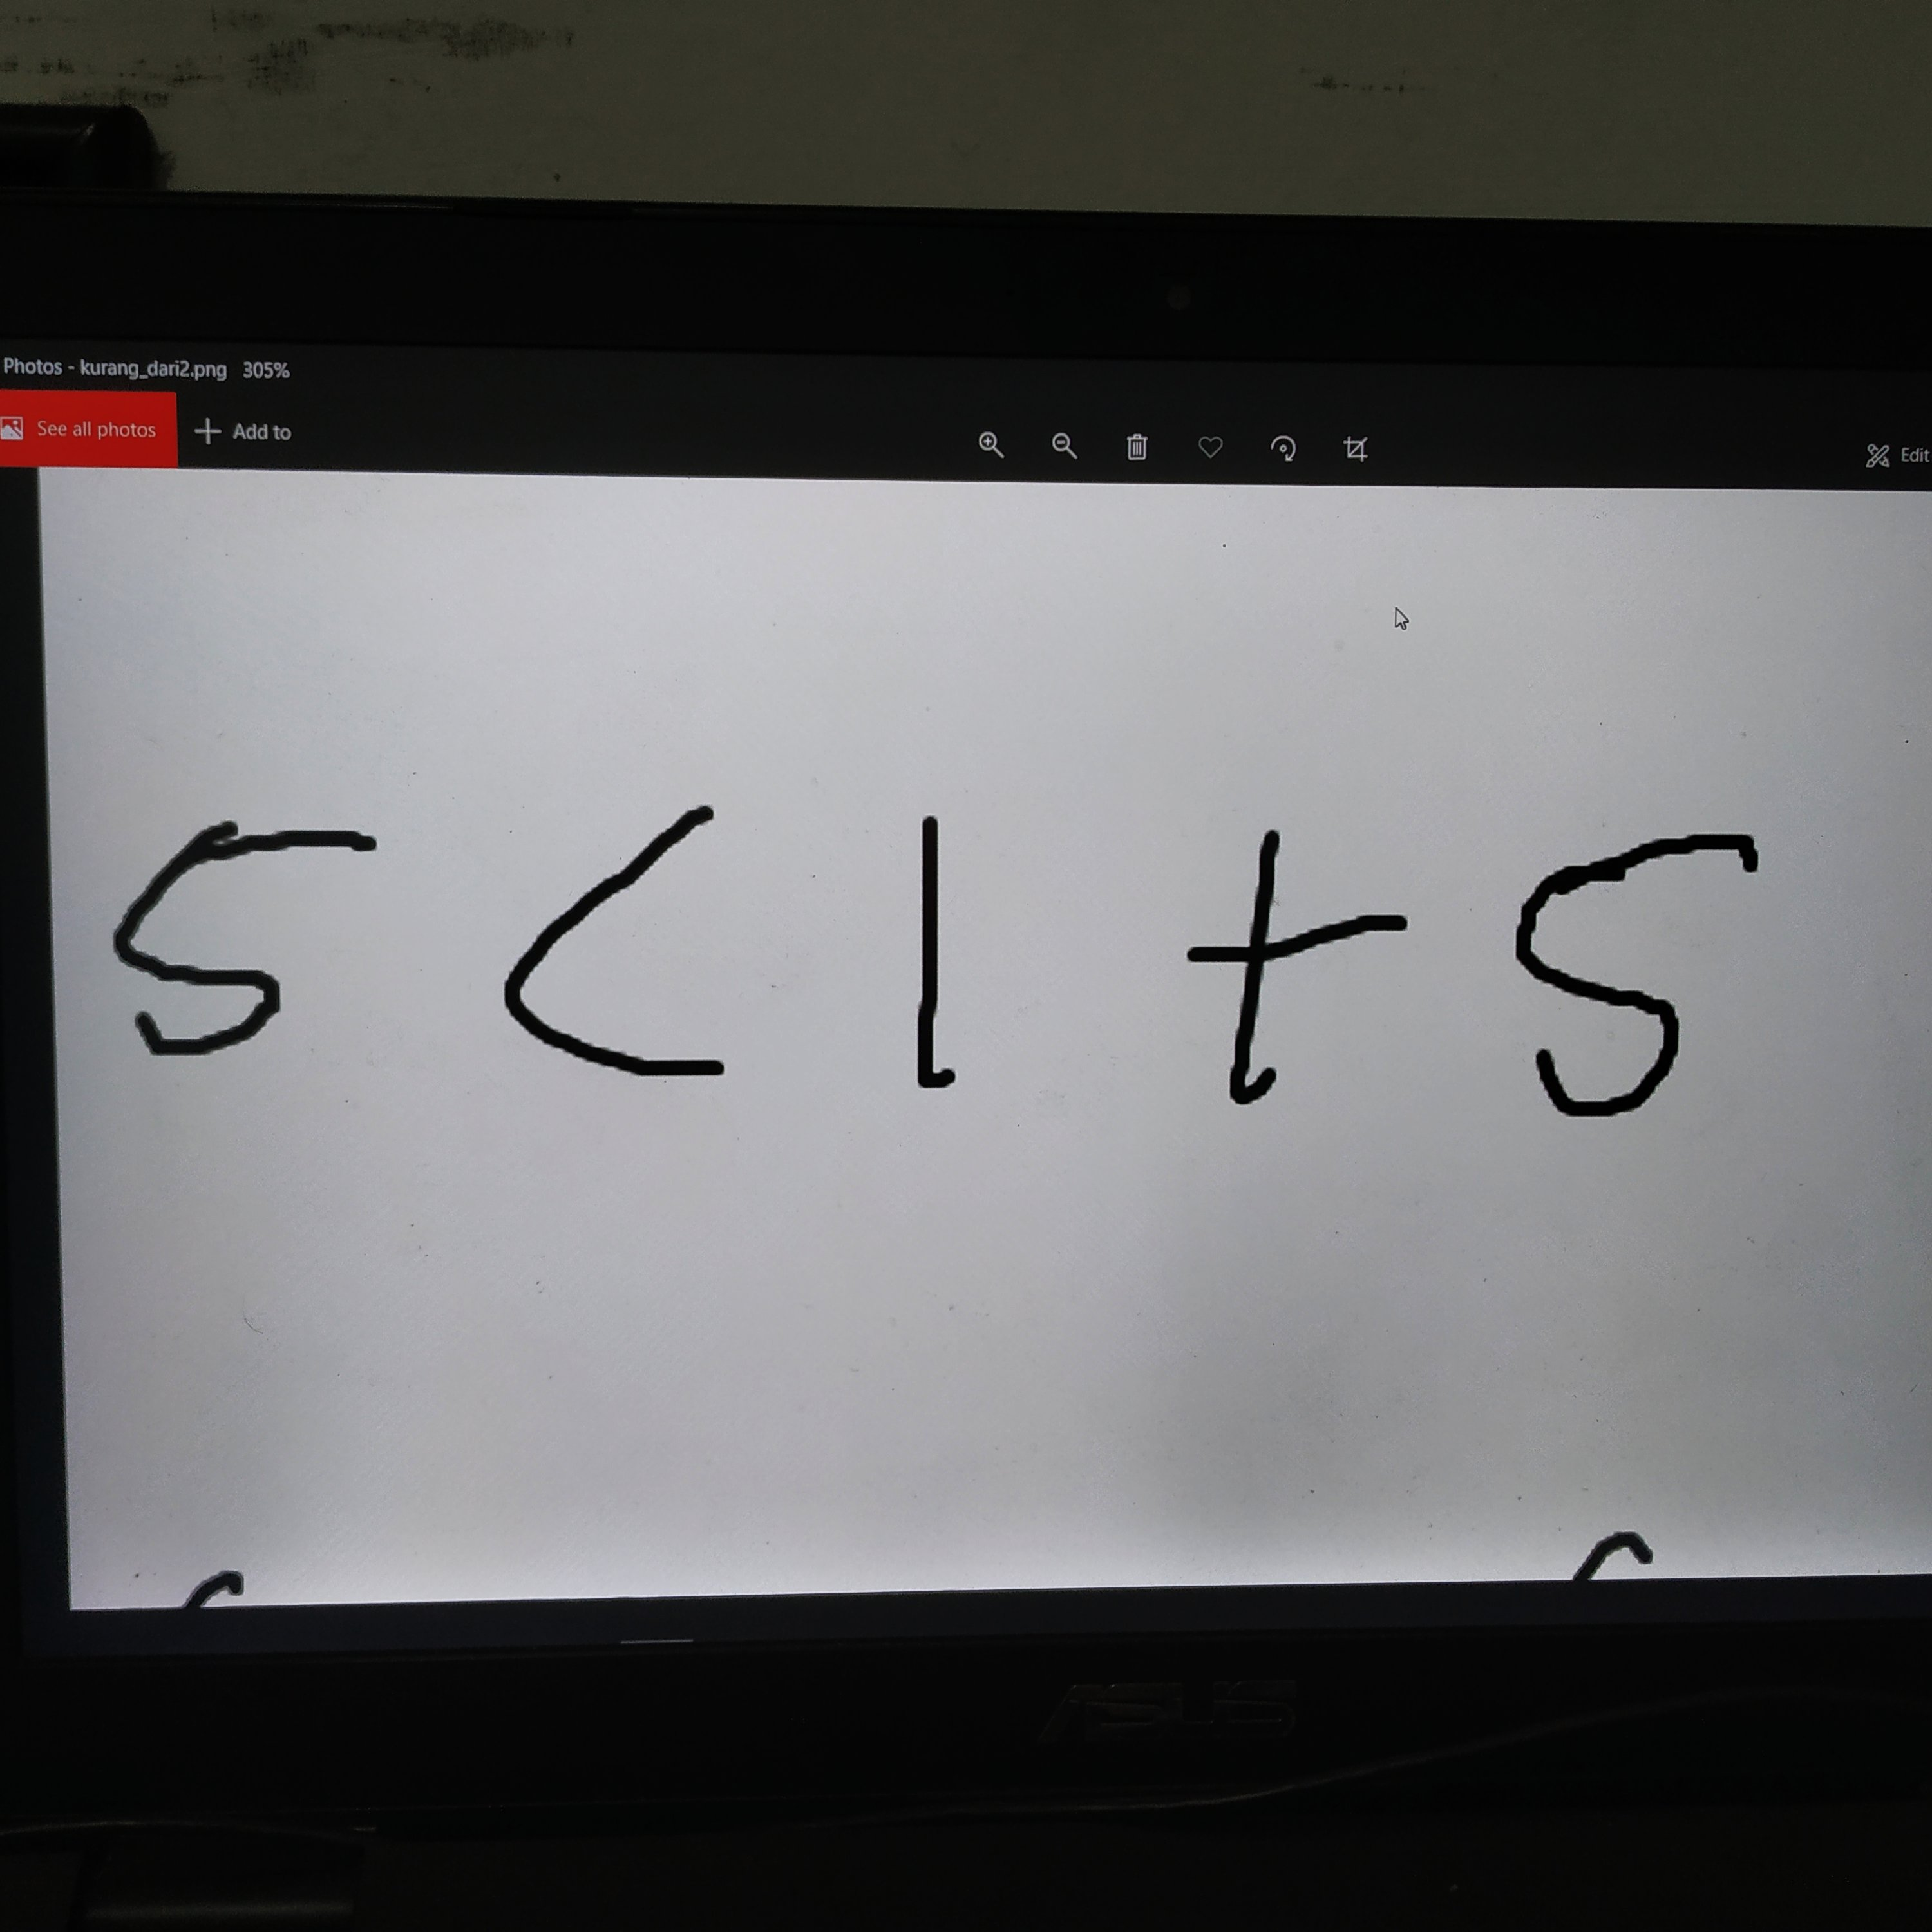lessthan: (491, 793, 777, 1112)
num1: (883, 804, 999, 1120)
num5: (1493, 829, 1794, 1137), (86, 823, 410, 1077)
sum: (1158, 819, 1437, 1110)
